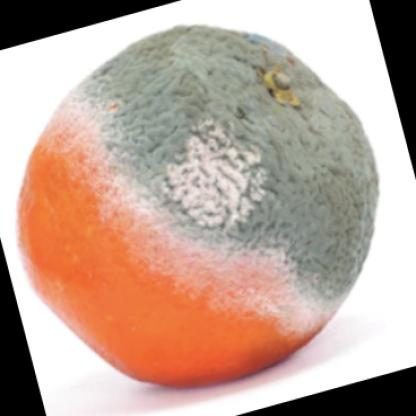rotten: (20, 28, 376, 388)
